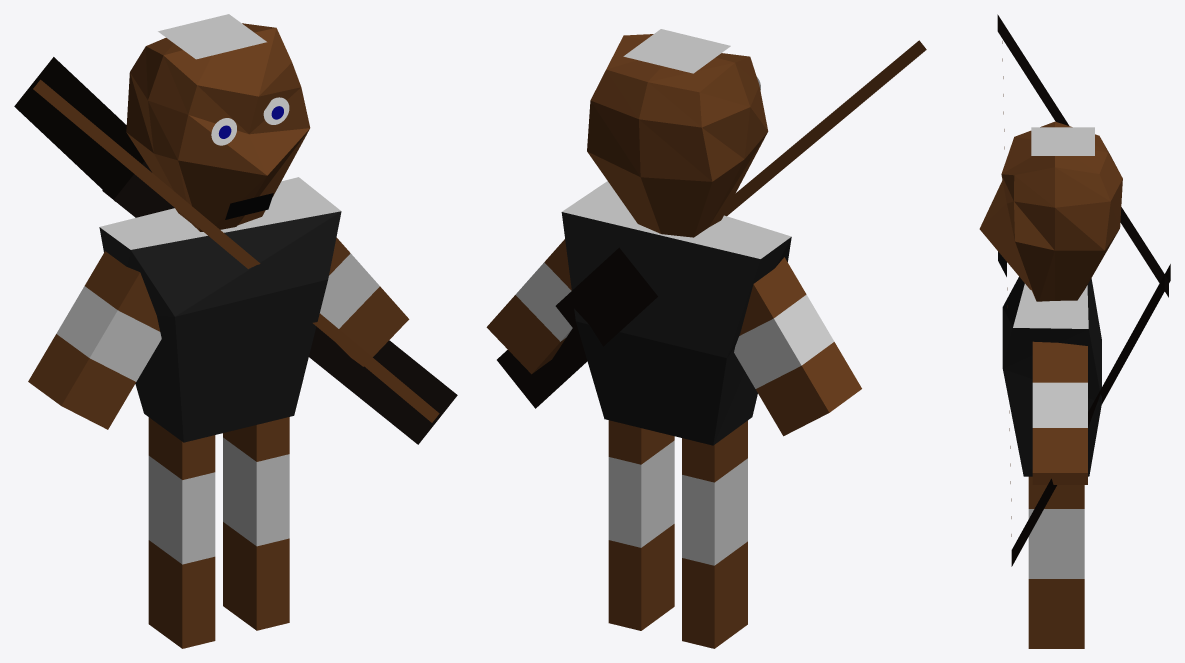
Rendered from archer1d.obj.
3 renders of one model, left to right at view 1: azimuth 30°, elevation 25°; view 2: azimuth 150°, elevation 25°; view 3: azimuth 270°, elevation 25°, orthographic. The views are drawn at different scales.
Visible parts, largest first — view 1: Cube.001, Cube, Cube.004, Cube.003, Cube.005, Plane.001_Plane.002, Plane.002_Plane.003, Plane.003_Plane.004, Cube.002, Plane.004_Plane.001, Plane; view 2: Cube.001, Cube, Cube.004, Cube.005, Cube.003, Plane.001_Plane.002, Cube.002, Plane.003_Plane.004, Plane.004_Plane.001; view 3: Cube, Cube.001, Cube.005, Cube.002, Plane.001_Plane.002, Plane.002_Plane.003, Plane.004_Plane.001.
Part boxes in pixels (bbox=[...]): Cube.001: bbox=[99, 177, 341, 442]; Cube: bbox=[126, 23, 310, 231]; Cube.004: bbox=[148, 417, 215, 648]; Cube.003: bbox=[28, 251, 161, 429]; Cube.005: bbox=[223, 417, 289, 630]; Plane.001_Plane.002: bbox=[102, 161, 457, 444]; Plane.002_Plane.003: bbox=[14, 57, 144, 201]; Plane.003_Plane.004: bbox=[33, 79, 439, 422]; Cube.002: bbox=[320, 237, 409, 366]; Plane.004_Plane.001: bbox=[158, 14, 266, 59]; Plane: bbox=[225, 193, 273, 219]; Cube.001: bbox=[561, 181, 791, 445]; Cube: bbox=[587, 34, 768, 237]; Cube.004: bbox=[682, 420, 747, 648]; Cube.005: bbox=[608, 420, 674, 630]; Cube.003: bbox=[734, 257, 861, 436]; Plane.001_Plane.002: bbox=[497, 247, 657, 408]; Cube.002: bbox=[486, 239, 572, 374]; Plane.003_Plane.004: bbox=[724, 40, 926, 216]; Plane.004_Plane.001: bbox=[623, 29, 730, 73]; Cube: bbox=[979, 121, 1122, 301]; Cube.001: bbox=[1002, 277, 1101, 476]; Cube.005: bbox=[1028, 476, 1084, 648]; Cube.002: bbox=[1032, 341, 1087, 484]; Plane.001_Plane.002: bbox=[1011, 264, 1170, 566]; Plane.002_Plane.003: bbox=[997, 14, 1168, 297]; Plane.004_Plane.001: bbox=[1031, 127, 1094, 155].
Size of the model in its own units: 4.75 by 6.44 by 2.1.
